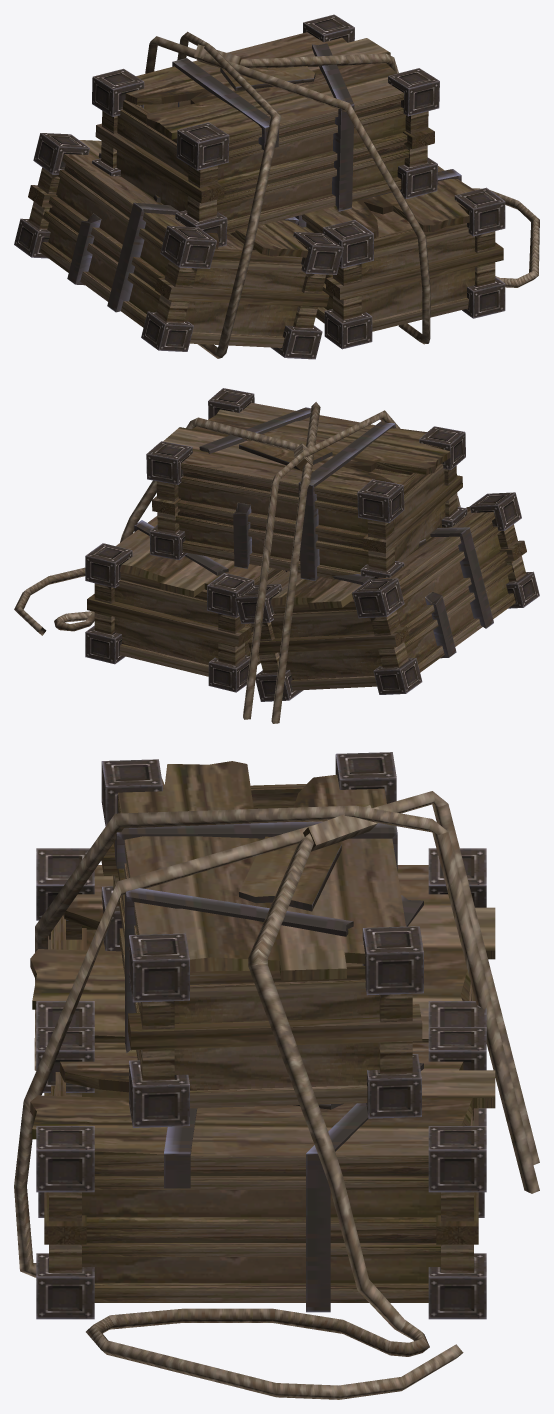
The model's file is fld_wujian13_jgc.FBX.
The picture shows the model from 3 angles, top to bottom: view 1: azimuth 30°, elevation 25°; view 2: azimuth 150°, elevation 25°; view 3: azimuth 270°, elevation 25°; orthographic projection. The views are drawn at different scales.
Visible parts, largest first — view 1: fld_wujian13_jgc; view 2: fld_wujian13_jgc; view 3: fld_wujian13_jgc.
Boxes of the visible parts, <box> form: fld_wujian13_jgc: <box>14,14,539,359</box>; fld_wujian13_jgc: <box>14,388,539,723</box>; fld_wujian13_jgc: <box>14,752,539,1399</box>.
Bounding box in the file's own units: 19.07 × 9.94 × 12.19.
